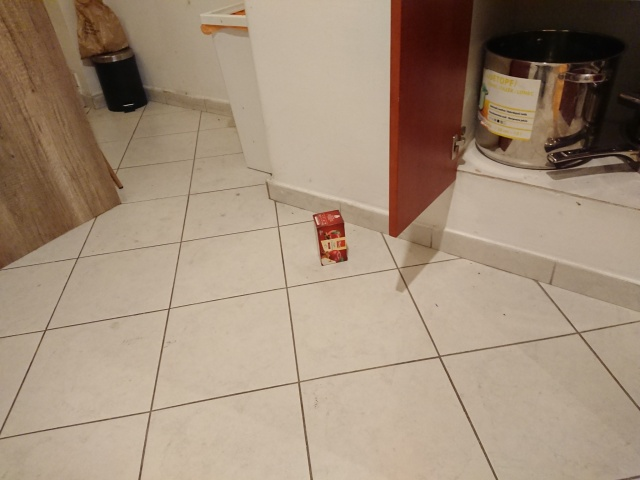Franck Apple Cinnamon Tea 60g: (310, 207, 350, 268)
